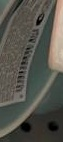1d: (14, 43, 35, 92)
